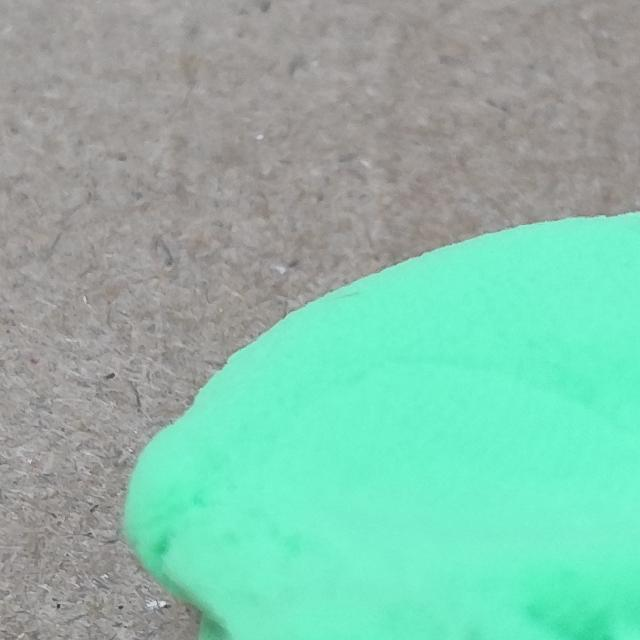good: (129, 216, 640, 640)
